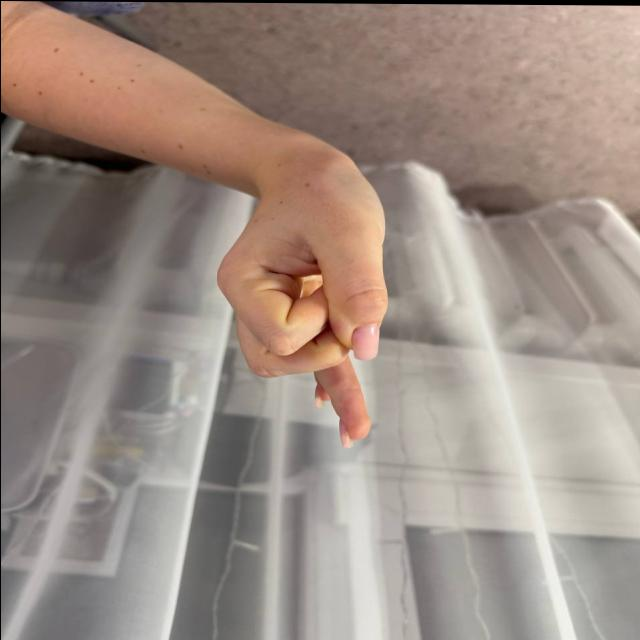i-: (151, 158, 413, 477)
